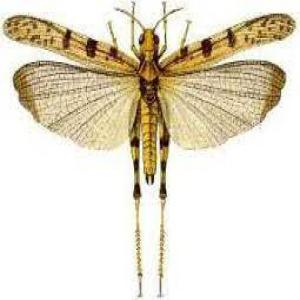locust: (9, 6, 289, 300)
